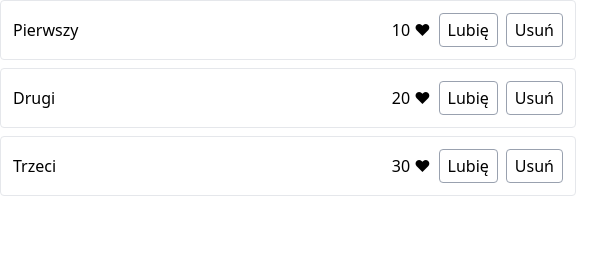
Scenario: PostList › only rolls back the post that failed
The width and height of the screenshot is (593, 279).
Check: the text "Pierwszy" is shown, box [13, 18, 78, 42]
What coordinates should you click on to do the following:
click the button with aria-label "Polub: Pierwszy"
I would click on:
 (468, 30)
Its box is [439, 13, 498, 47].
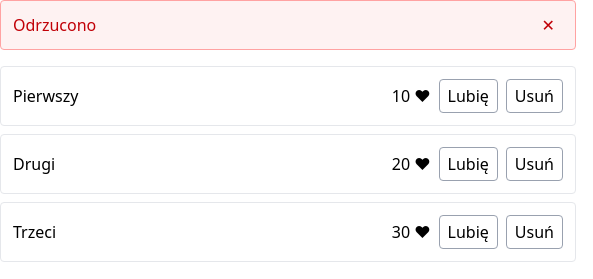
Check: the text with test id "likes-2" shows "20", box [392, 153, 410, 175]
Check: the message "Odrzucono ✕" is shown, box [0, 0, 576, 50]
